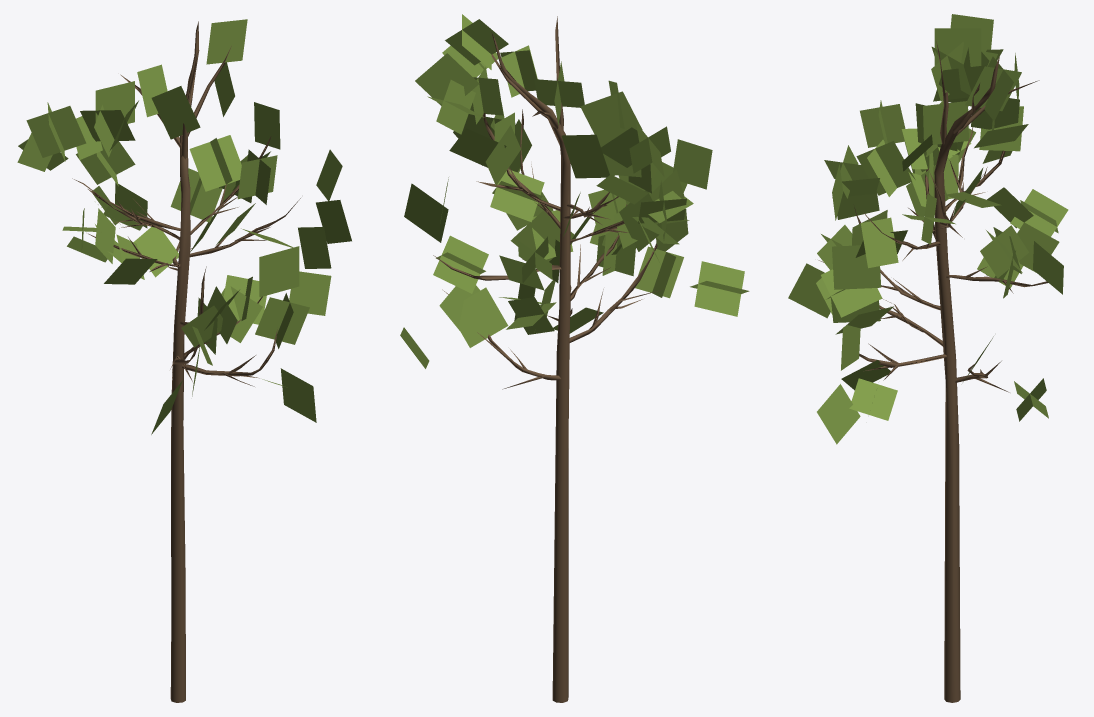
File: meadow-aspen-a.lod2.glb
3 views of the same model, side by side, from view 1: azimuth 30°, elevation 25°; view 2: azimuth 150°, elevation 25°; view 3: azimuth 270°, elevation 25° (orthographic). The views are drawn at different scales.
Visible parts, largest first — view 1: leaves, bark; view 2: leaves, bark; view 3: leaves, bark.
Part boxes in pixels (x1,y1,x2,y2): leaves: (17,19,351,434); bark: (72,21,300,702); leaves: (400,14,749,368); bark: (433,16,660,702); leaves: (788,14,1068,444); bark: (818,41,1048,702).
Bounding box in the file's own units: 27.71 × 65.59 × 26.67.
